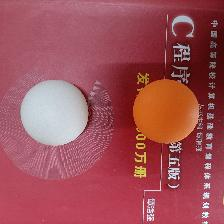WhiteBall: (19, 79, 89, 146)
YellowBall: (131, 78, 199, 144)
